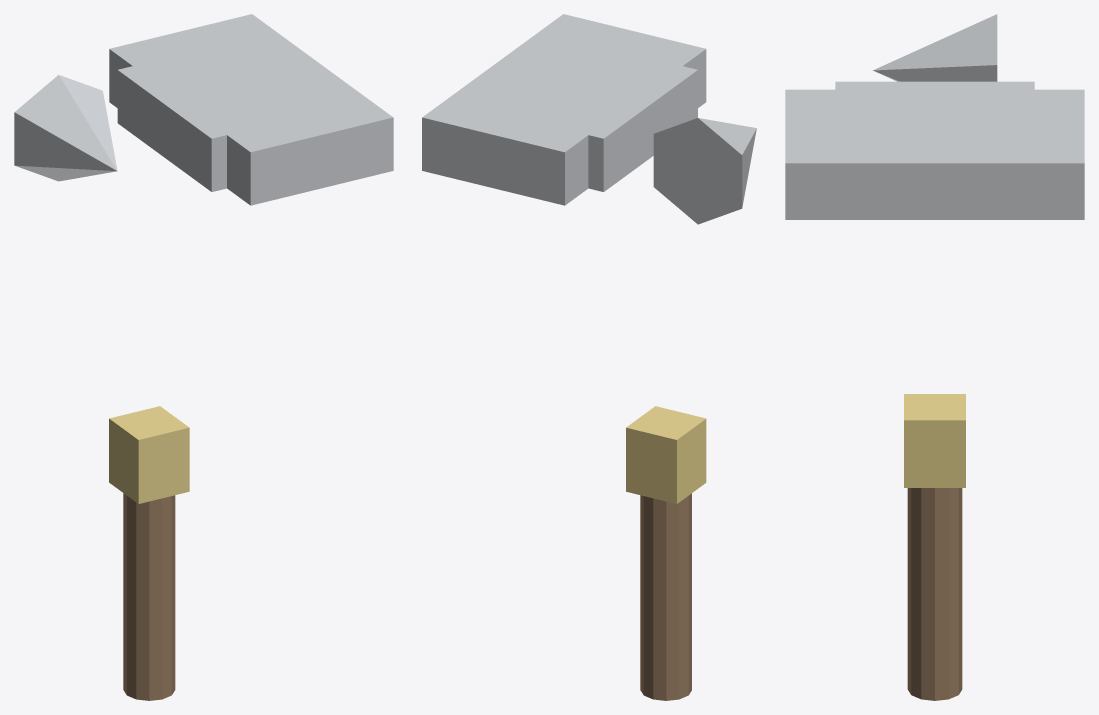
Rendered from wpn_axe.glb.
3 renders of one model, left to right at view 1: azimuth 30°, elevation 25°; view 2: azimuth 150°, elevation 25°; view 3: azimuth 270°, elevation 25°, orthographic. The views are drawn at different scales.
Visible parts, largest first — view 1: wpn_axe; view 2: wpn_axe; view 3: wpn_axe.
Part boxes in pixels (<box>): wpn_axe: <box>14,14,393,700</box>; wpn_axe: <box>422,14,756,700</box>; wpn_axe: <box>785,14,1084,700</box>.
Bounding box in the file's own units: 0.2733 × 0.57 × 0.24.
